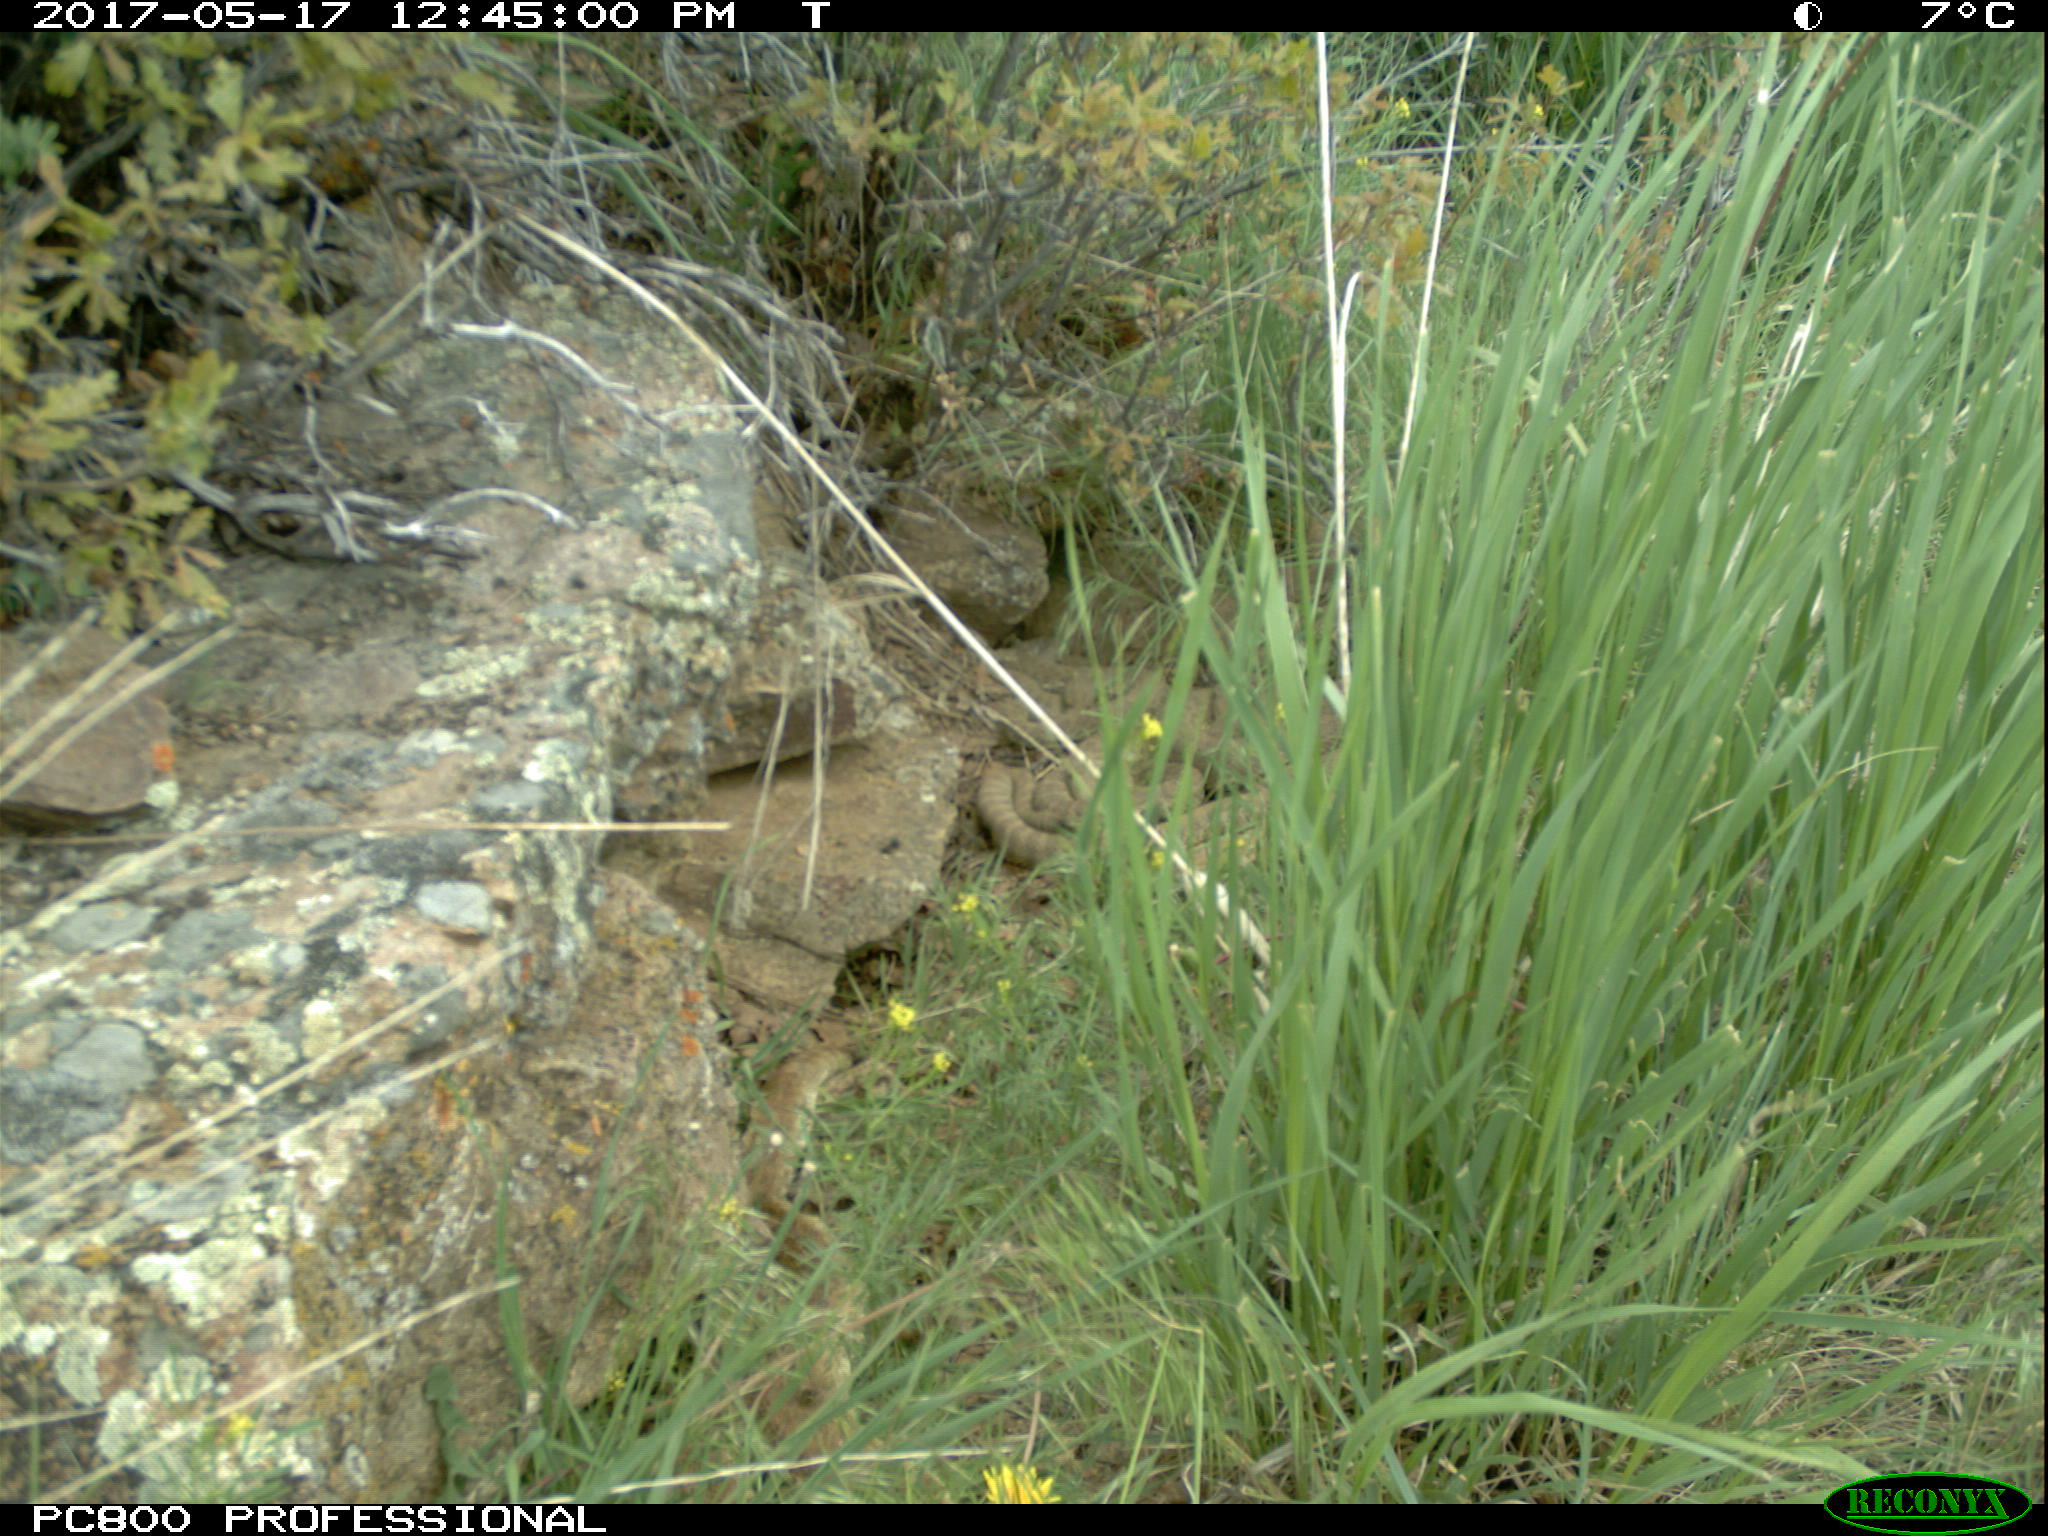snake: (748, 1050, 863, 1450), (1072, 739, 1208, 818), (974, 762, 1077, 863), (1161, 784, 1279, 863)
